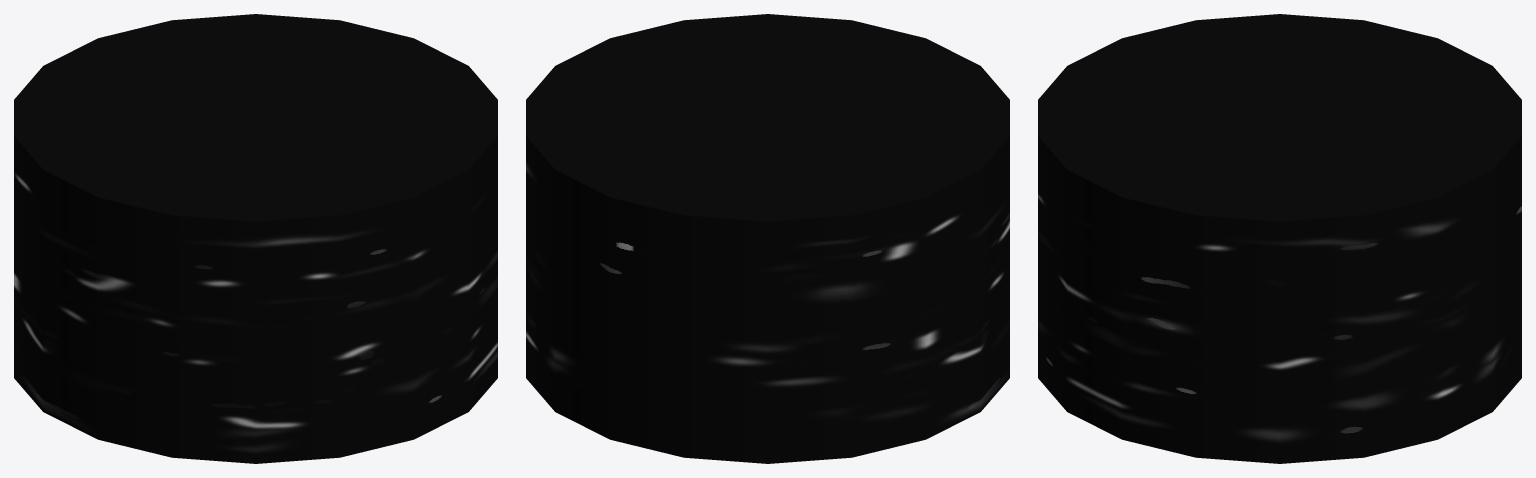
The model's file is Limit.fbx.
3 views of the same model, side by side, from view 1: azimuth 30°, elevation 25°; view 2: azimuth 150°, elevation 25°; view 3: azimuth 270°, elevation 25° (orthographic).
Parts seen in each view (by area): view 1: Cylinder001; view 2: Cylinder001; view 3: Cylinder001.
Part boxes in pixels (x1,y1,x2,y2): Cylinder001: (14,14,497,463); Cylinder001: (526,14,1009,463); Cylinder001: (1038,14,1521,463).
Bounding box in the file's own units: 7305 × 7194 × 3974.
1 material, 1 textured.
